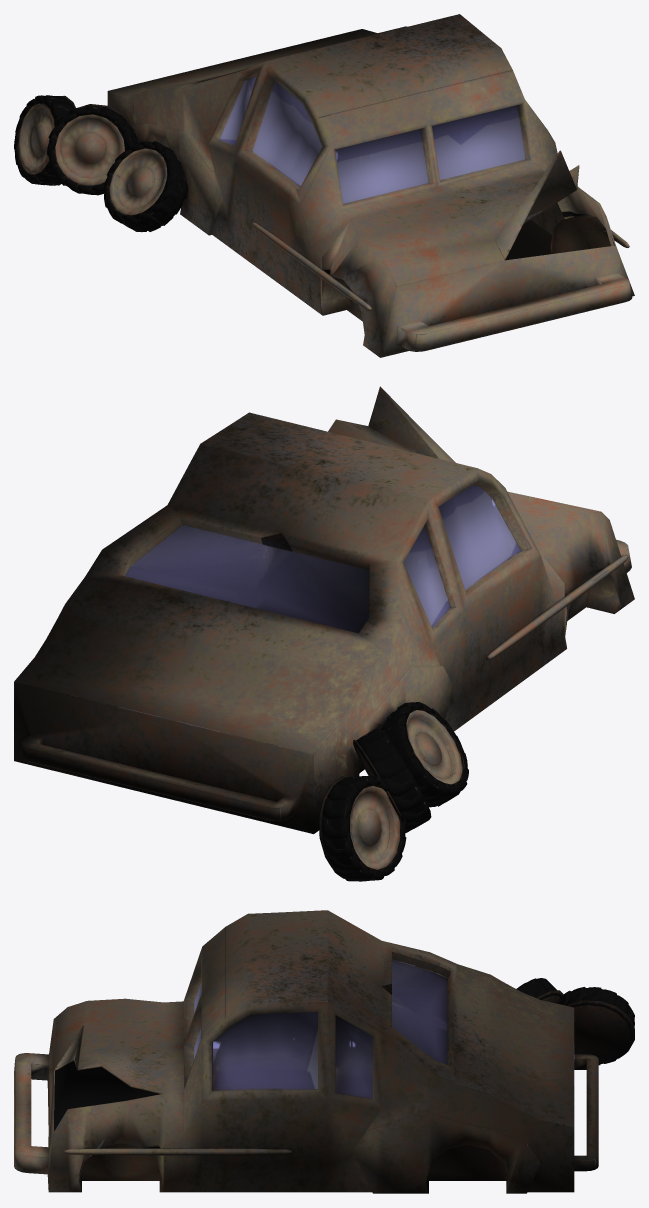
The model's file is Carro.fbx.
3 views of the same model, one above another, from view 1: azimuth 30°, elevation 25°; view 2: azimuth 150°, elevation 25°; view 3: azimuth 270°, elevation 25° (orthographic). The views are drawn at different scales.
Parts seen in each view (by area): view 1: CarroOxidado; view 2: CarroOxidado; view 3: CarroOxidado.
Boxes of the visible parts, bbox=[...] form: CarroOxidado: bbox=[14, 14, 634, 357]; CarroOxidado: bbox=[14, 386, 634, 881]; CarroOxidado: bbox=[14, 910, 634, 1193].
Bounding box in the file's own units: 283 × 161 × 469.
Materials: 1 (1 with a texture image).
